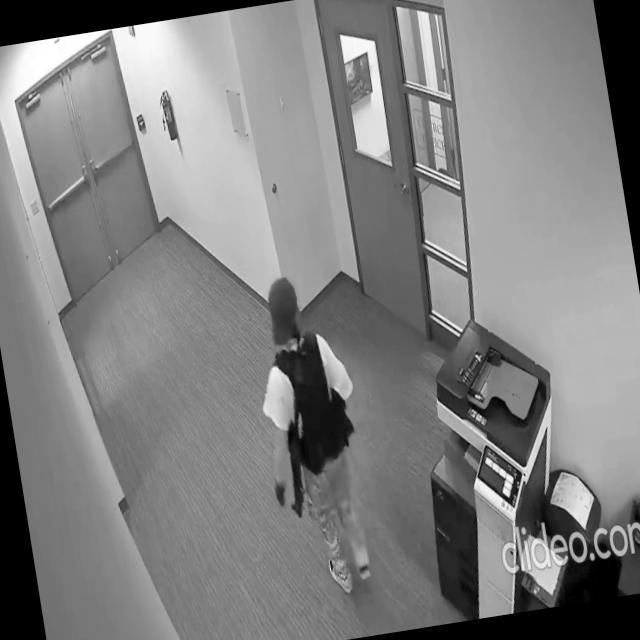gun: (275, 406, 313, 522)
person with a gun: (241, 266, 387, 604)
